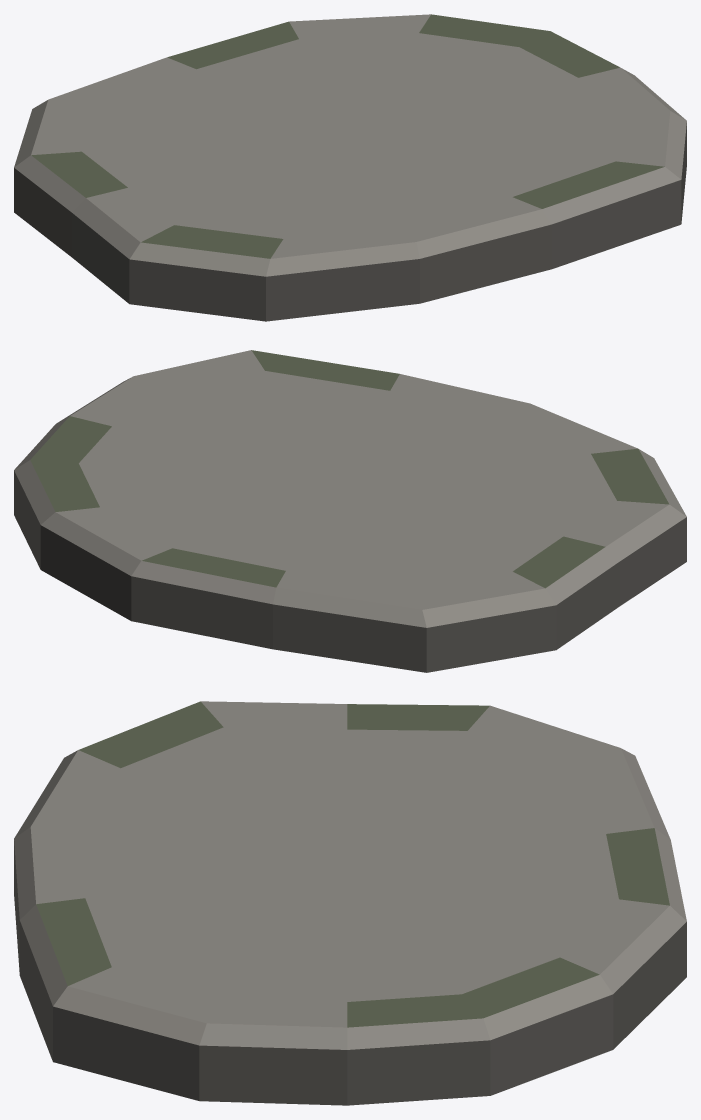
The model's file is stepping_stone_a.fbx.
3 views of the same model, one above another, from view 1: azimuth 30°, elevation 25°; view 2: azimuth 150°, elevation 25°; view 3: azimuth 270°, elevation 25° (orthographic). The views are drawn at different scales.
Parts seen in each view (by area): view 1: stepping_stone_a; view 2: stepping_stone_a; view 3: stepping_stone_a.
Boxes of the visible parts, x1,y1,x2,y2 form: stepping_stone_a: (14,14,686,321); stepping_stone_a: (14,350,686,672); stepping_stone_a: (14,701,686,1105).
Bounding box in the file's own units: 0.4238 × 0.3509 × 0.04.
